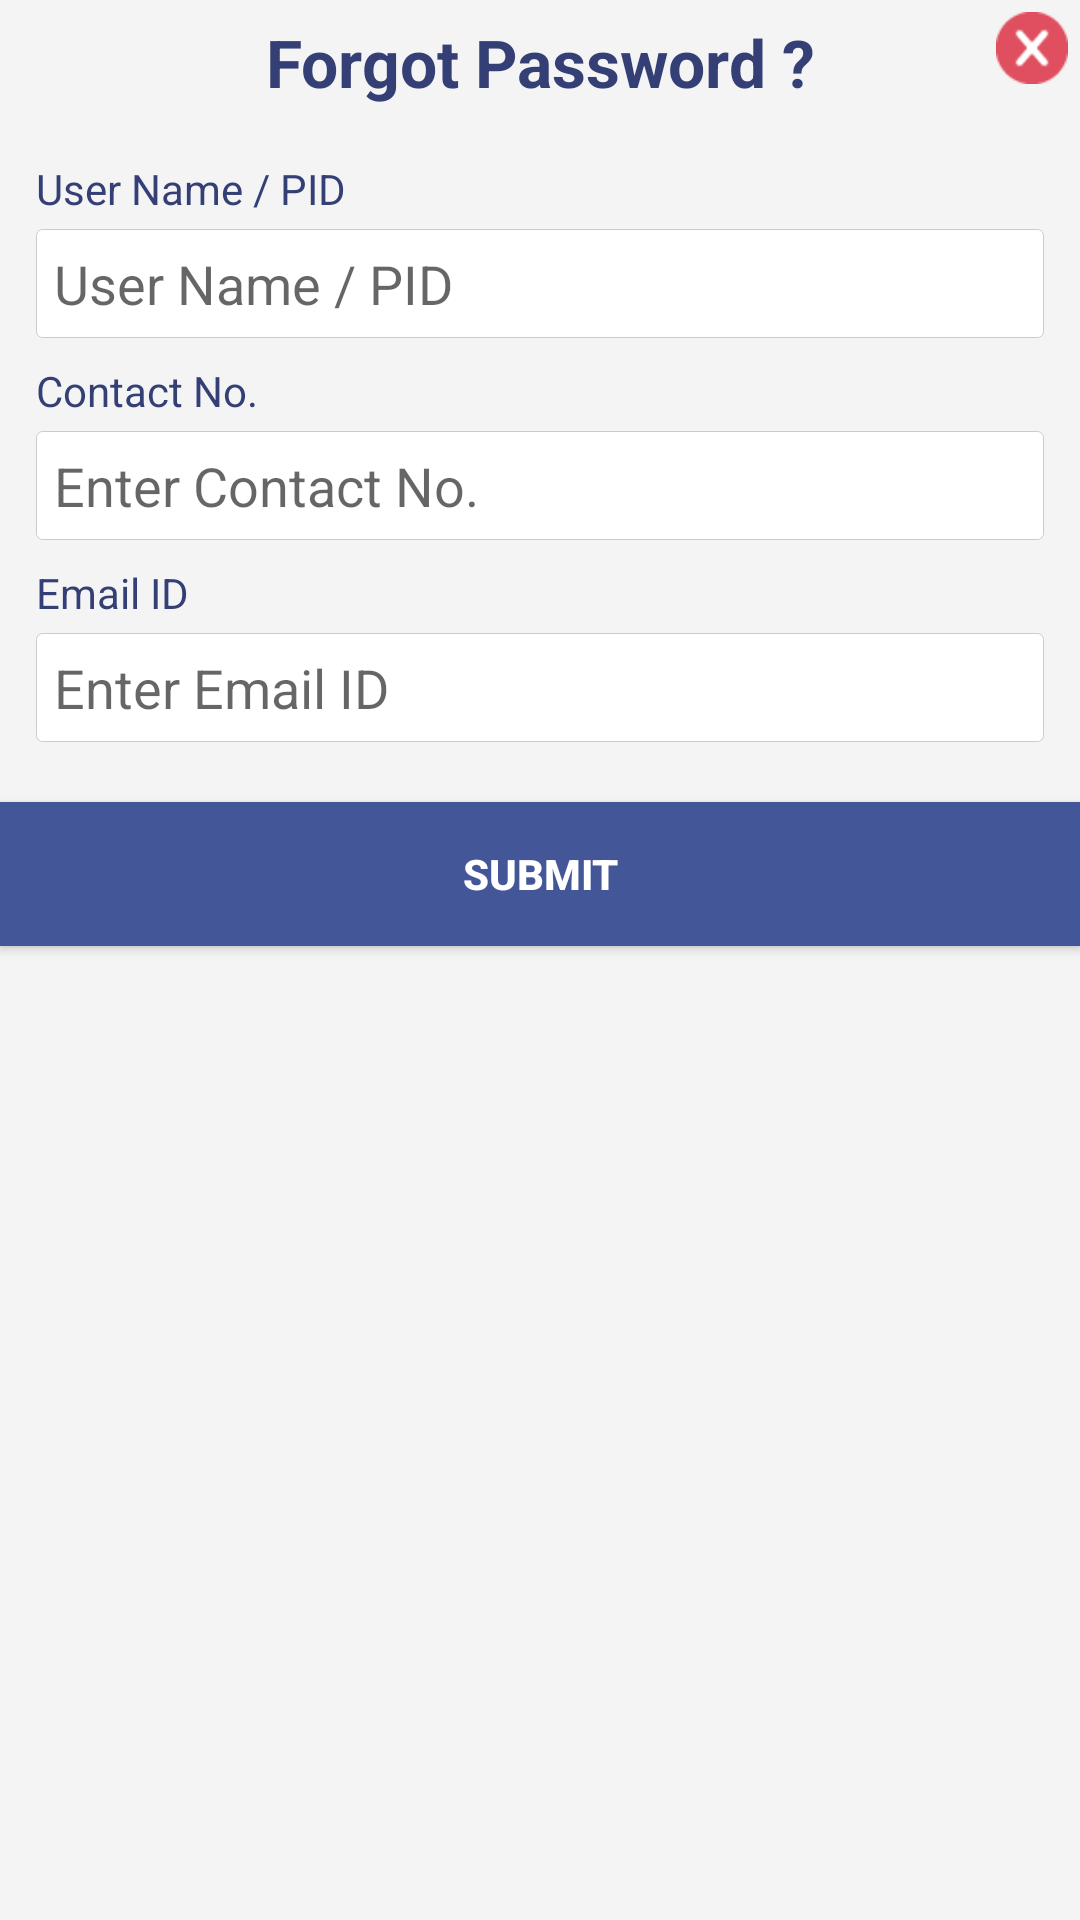

Icon click points for this 1080*1920 phone screenshot, format (x=x, y=y):
close: (x=1032, y=48)
